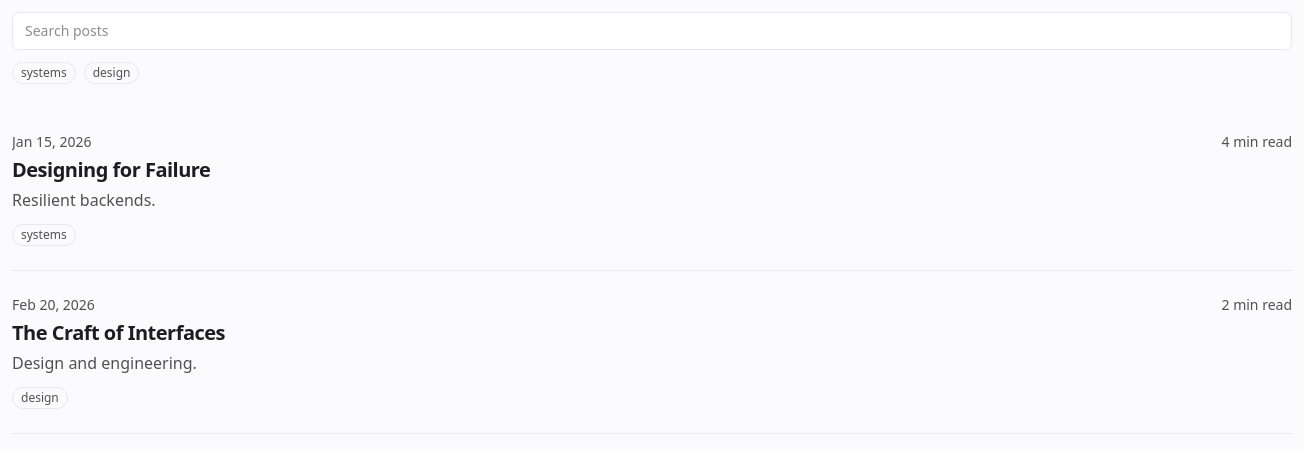
Test: BlogExplorer › filters by search query
The image size is (1304, 451).
Type "failure" into the search field labelled "Search posts" at (652, 31), box [12,12,1292,50]
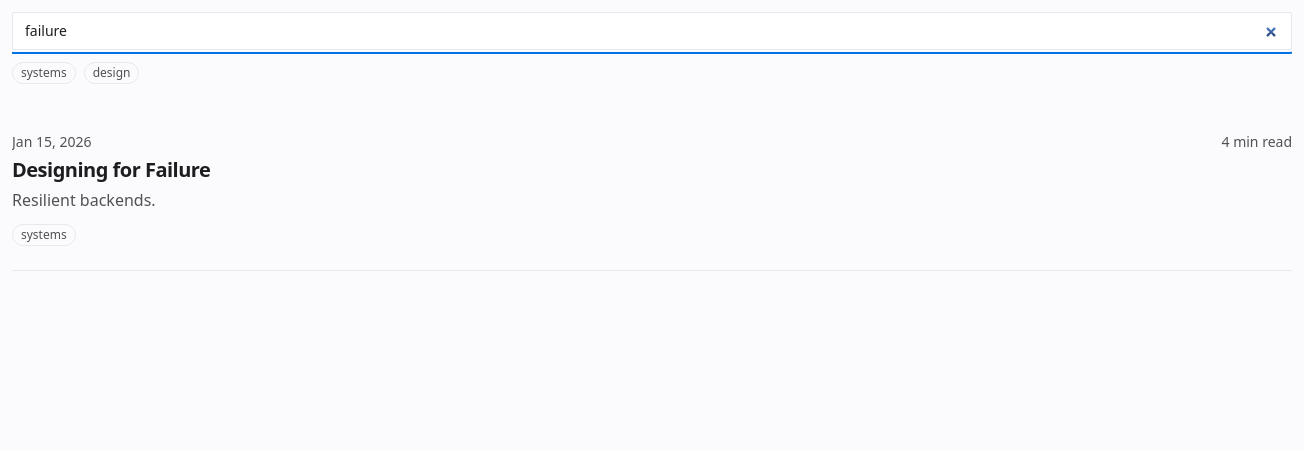
Expected: the link "Designing for Failure" is shown, [12,156,210,183]
Now the link "The Craft of Interfaces" is gone
